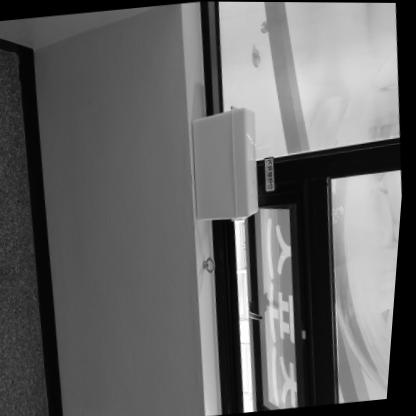DDL: (186, 103, 268, 226)
